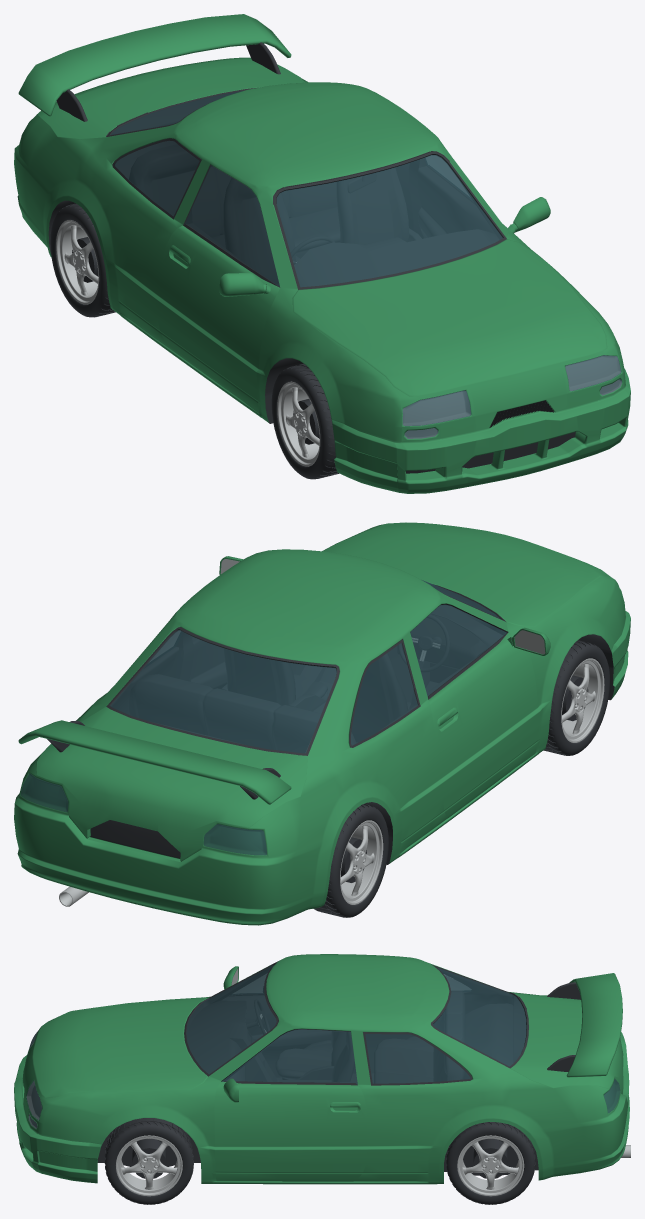
Rendered from shoreline.glb.
The picture shows the model from 3 angles, top to bottom: view 1: azimuth 30°, elevation 25°; view 2: azimuth 150°, elevation 25°; view 3: azimuth 270°, elevation 25°; orthographic projection. The views are drawn at different scales.
Parts seen in each view (by area): view 1: Shoreline; view 2: Shoreline; view 3: Shoreline.
Boxes of the visible parts, left/top/right/bottom form: Shoreline: left=14, top=14, right=630, bottom=493; Shoreline: left=14, top=522, right=630, bottom=925; Shoreline: left=14, top=954, right=630, bottom=1204.
Bounding box in the file's own units: 2.2 × 1.43 × 4.65.
